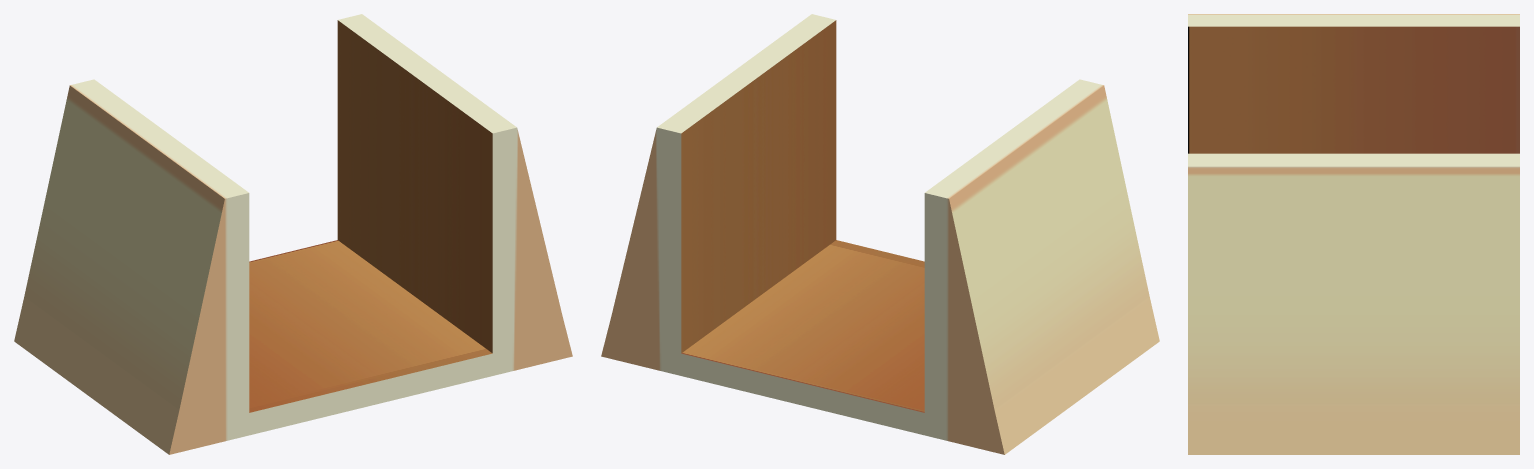
File: endgoal_04.fbx
3 views of the same model, side by side, from view 1: azimuth 30°, elevation 25°; view 2: azimuth 150°, elevation 25°; view 3: azimuth 270°, elevation 25° (orthographic). The views are drawn at different scales.
Visible parts, largest first — view 1: pCube16; view 2: pCube16; view 3: pCube16.
Boxes of the visible parts, left/top/right/bottom form: pCube16: left=14, top=14, right=572, bottom=454; pCube16: left=601, top=14, right=1159, bottom=454; pCube16: left=1188, top=14, right=1519, bottom=454.
Size of the model in its own units: 303 by 174 by 202.
